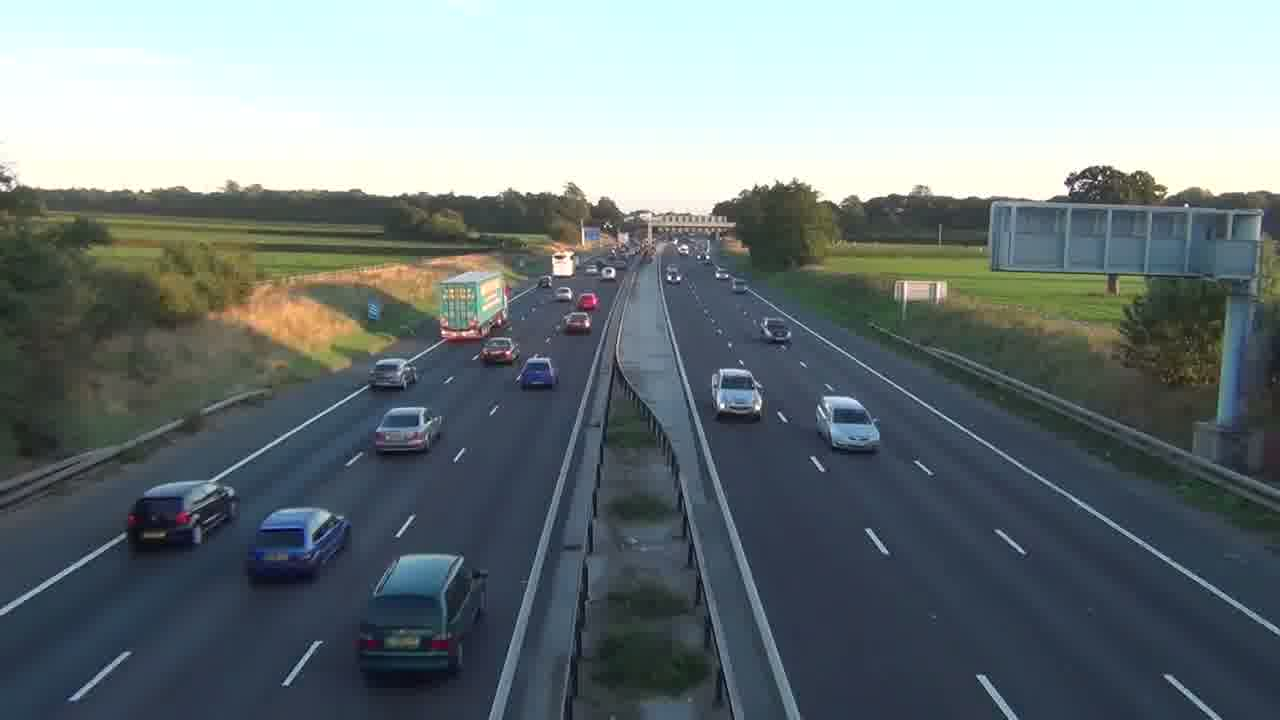car: (126, 479, 240, 551), (245, 506, 351, 582), (815, 395, 881, 453), (372, 405, 443, 455), (711, 366, 765, 421), (516, 356, 557, 390), (479, 337, 517, 366), (759, 316, 792, 346), (563, 310, 592, 335), (576, 291, 600, 312)
truck: (354, 552, 489, 676), (126, 479, 240, 551), (437, 271, 506, 342)
